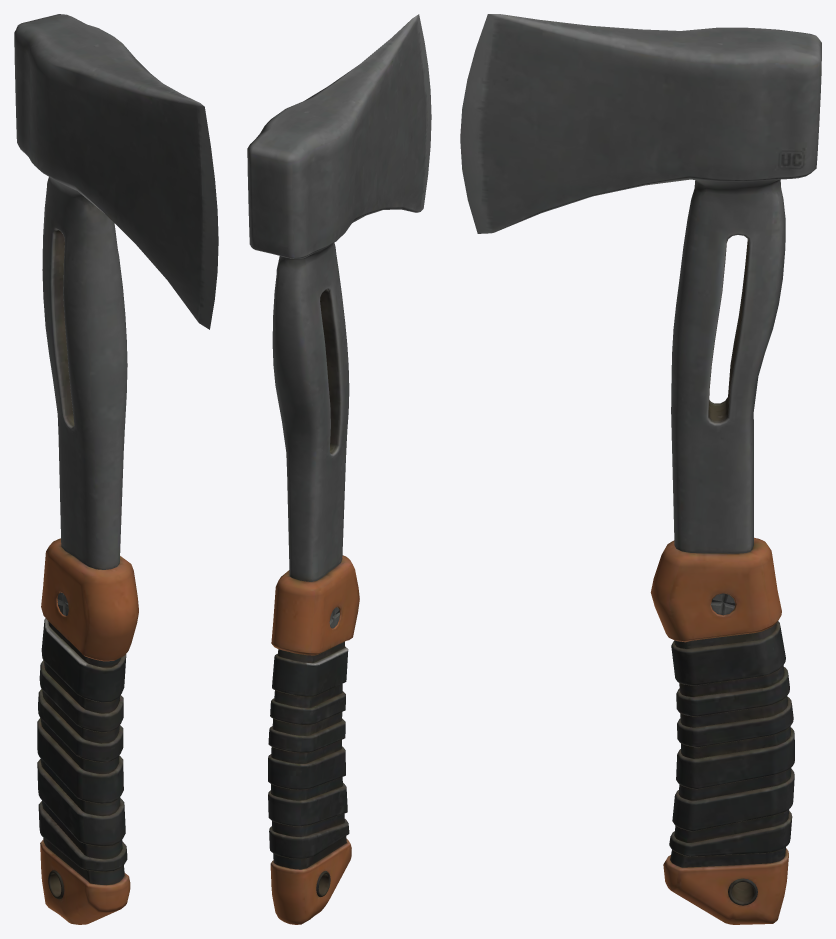
Rendered from hatchet.glb.
3 views of the same model, side by side, from view 1: azimuth 30°, elevation 25°; view 2: azimuth 150°, elevation 25°; view 3: azimuth 270°, elevation 25° (orthographic). The views are drawn at different scales.
Visible parts, largest first — view 1: hatchet; view 2: hatchet; view 3: hatchet.
Part boxes in pixels (bbox=[...]): hatchet: bbox=[14, 14, 218, 924]; hatchet: bbox=[247, 14, 431, 924]; hatchet: bbox=[460, 14, 821, 924].
Bounding box in the file's own units: 0.026 × 0.2887 × 0.1043.
1 material, 1 textured.
